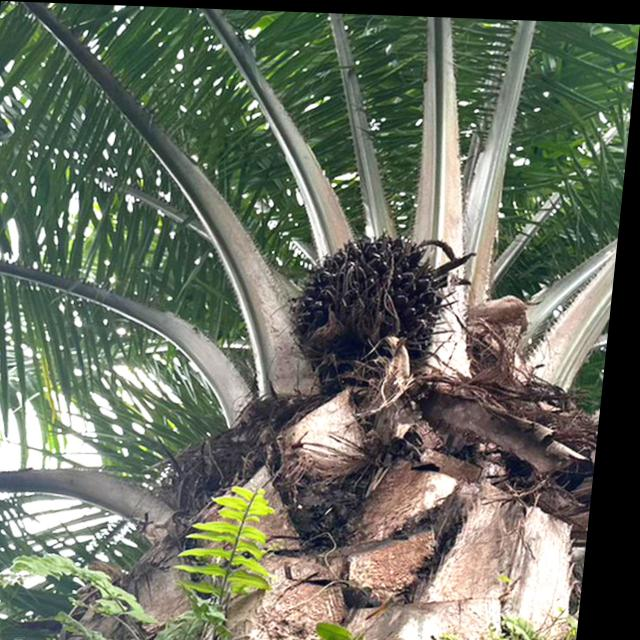almost: (287, 223, 457, 372)
